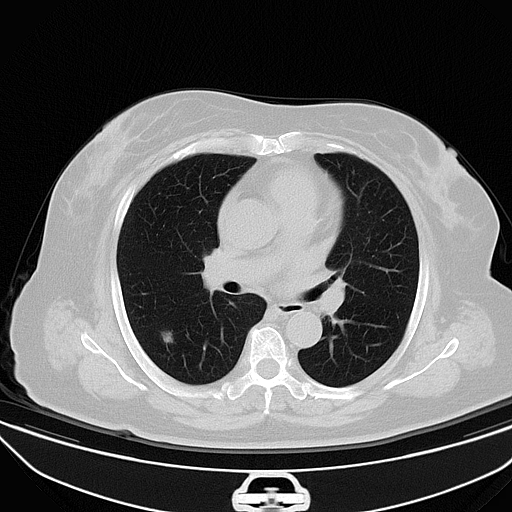nodule: (159, 330, 174, 344)
